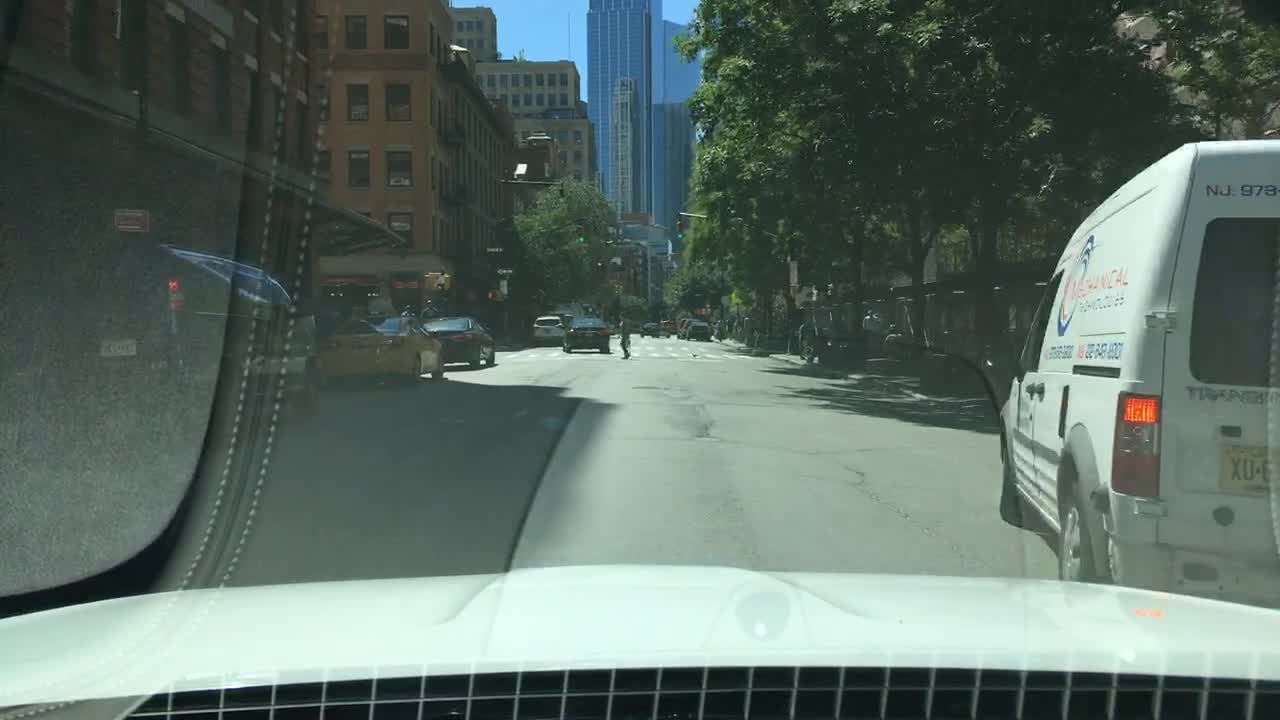bike: (713, 324, 724, 341)
car: (991, 137, 1278, 611), (0, 243, 321, 441), (318, 298, 446, 383), (421, 318, 490, 366), (556, 316, 613, 351), (531, 318, 566, 343), (686, 321, 712, 339), (641, 321, 667, 339), (676, 319, 696, 336)
person: (615, 311, 633, 361), (807, 328, 831, 361), (859, 308, 880, 341), (798, 319, 811, 361), (420, 301, 439, 318), (885, 325, 905, 341), (726, 314, 737, 336), (401, 301, 415, 316)
rider: (714, 316, 726, 339)
traffic light: (425, 272, 437, 290), (486, 289, 501, 300), (676, 222, 685, 238), (440, 275, 451, 288), (576, 227, 583, 244)
traffic sign: (112, 208, 147, 232), (788, 259, 798, 285), (732, 290, 744, 303), (484, 245, 502, 253), (496, 268, 512, 274)
truck: (546, 301, 582, 319), (581, 306, 596, 316)
